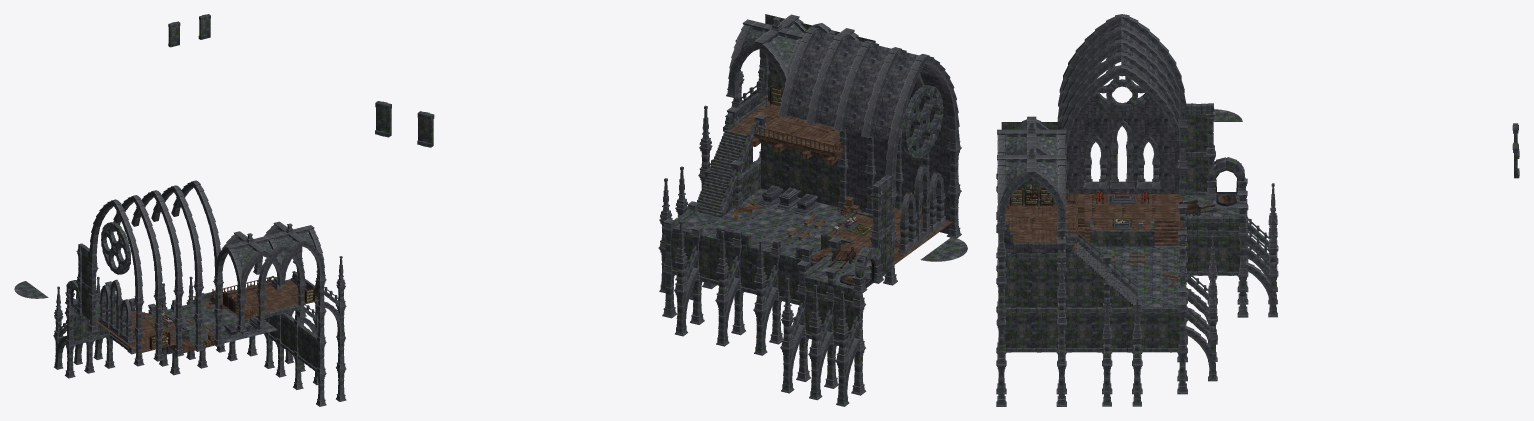
File: ChapelEnvironment_Prefab.gltf
3 renders of one model, left to right at view 1: azimuth 30°, elevation 25°; view 2: azimuth 150°, elevation 25°; view 3: azimuth 270°, elevation 25°, orthographic. The views are drawn at different scales.
Parts seen in each view (by area): view 1: Plane (×2), P_MOD_Wall_01_M_straight_large; view 2: Plane (1), P_MOD_Wall_01_M_straight_large (×3), Plane (×2), P_MOD_Stairs_01_E_straight_1 (1), P_MOD_Stairs_01_E_straight_1, P_MOD_Wall_02_O_straight_large (6), P_MOD_Wall_02_O_straight_large (7), P_MOD_Wall_01_O_straight_med (9), P_MOD_Wall_02_O_straight_large (5), P_MOD_Wall_01_O_straight_med (7), P_MOD_Wall_01_O_straight_med (5); view 3: Plane (×3), P_MOD_Wall_01_M_straight_large (×6), P_MOD_Wall_01_M_corner_large (×2), P_MOD_Wall_01_E_straight_large (×2), Plane (1), P_MOD_Stairs_02_E_straight_02, P_MOD_Wall_01_O_straight_med, P_MOD_Wall_01_O_straight_med (1), P_MOD_Wall_01_O_straight_med (3), P_MOD_Wall_01_O_straight_med (2), P_MOD_Wall_01_O_straight_med (4), P_MOD_Wall_01_M_corner_med (1) (+3 smaller).
Boxes of the visible parts, x1,y1,x2,y2 form: Plane (×2): [233, 229, 314, 269]; P_MOD_Wall_01_M_straight_large: [73, 314, 88, 341]; Plane (1): [787, 30, 918, 139]; P_MOD_Wall_01_M_straight_large (×3): [698, 239, 799, 300]; Plane (×2): [740, 23, 949, 147]; P_MOD_Stairs_01_E_straight_1 (1): [697, 170, 731, 217]; P_MOD_Stairs_01_E_straight_1: [709, 130, 747, 175]; P_MOD_Wall_02_O_straight_large (6): [846, 166, 867, 211]; P_MOD_Wall_02_O_straight_large (7): [846, 130, 867, 170]; P_MOD_Wall_01_O_straight_med (9): [761, 159, 788, 193]; P_MOD_Wall_02_O_straight_large (5): [929, 144, 950, 190]; P_MOD_Wall_01_O_straight_med (7): [788, 166, 816, 201]; P_MOD_Wall_01_O_straight_med (5): [816, 173, 840, 206]; Plane (×3): [1005, 23, 1179, 193]; P_MOD_Wall_01_M_straight_large (×6): [1004, 236, 1211, 348]; P_MOD_Wall_01_M_corner_large (×2): [1152, 236, 1240, 348]; P_MOD_Wall_01_E_straight_large (×2): [1185, 114, 1210, 191]; Plane (1): [1121, 18, 1175, 116]; P_MOD_Stairs_02_E_straight_02: [1154, 219, 1182, 245]; P_MOD_Wall_01_O_straight_med: [1077, 282, 1106, 307]; P_MOD_Wall_01_O_straight_med (1): [1031, 282, 1058, 307]; P_MOD_Wall_01_O_straight_med (3): [1004, 282, 1031, 307]; P_MOD_Wall_01_O_straight_med (2): [1031, 258, 1058, 282]; P_MOD_Wall_01_O_straight_med (4): [1004, 258, 1031, 282]; P_MOD_Wall_01_M_corner_med (1): [1122, 218, 1154, 246].
Bounding box in the file's own units: 61.86 × 43.48 × 69.37.
Materials: 23 (23 with a texture image).
